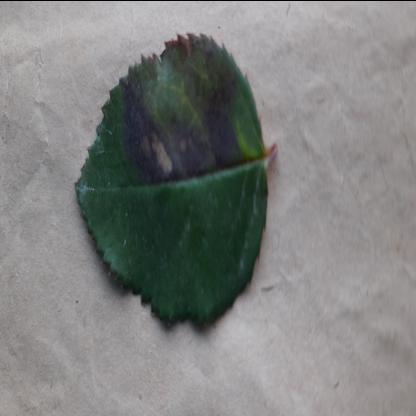downy-mildew: (74, 24, 268, 334)
